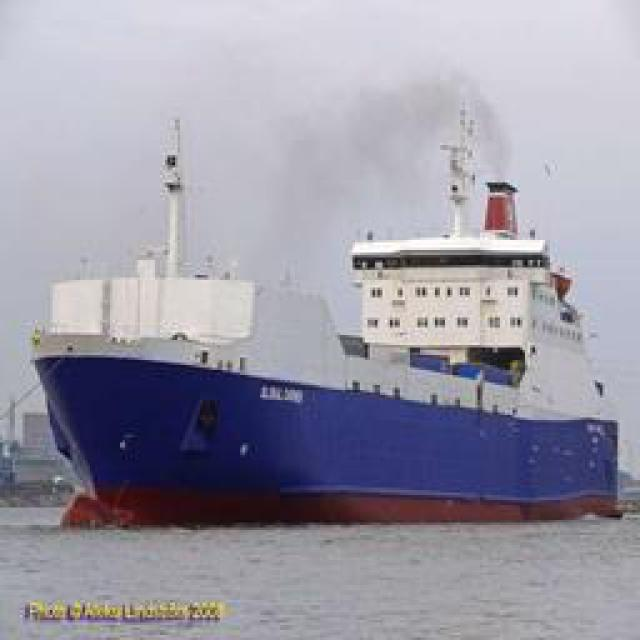Ship: (24, 120, 627, 523)
